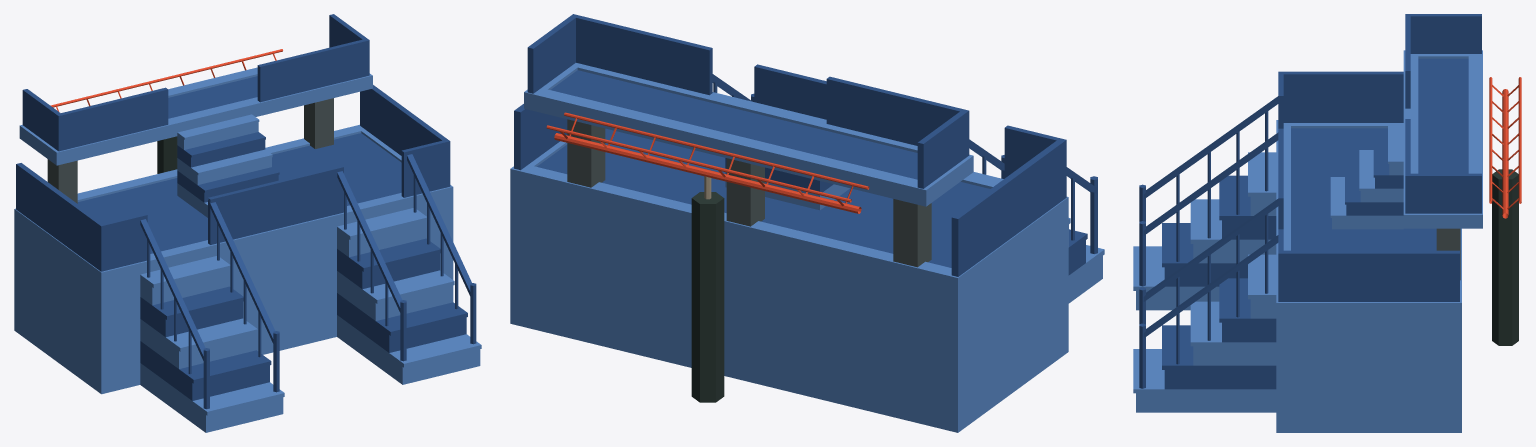
The model's file is RollerCoaster_Start.fbx.
3 views of the same model, side by side, from view 1: azimuth 30°, elevation 25°; view 2: azimuth 150°, elevation 25°; view 3: azimuth 270°, elevation 25° (orthographic). The views are drawn at different scales.
Parts seen in each view (by area): view 1: RollerCoaster_Start; view 2: RollerCoaster_Start; view 3: RollerCoaster_Start.
Part boxes in pixels (x1,y1,x2,y2): RollerCoaster_Start: [14, 14, 481, 432]; RollerCoaster_Start: [510, 14, 1104, 432]; RollerCoaster_Start: [1133, 14, 1521, 432].
Size of the model in its own units: 590 by 368 by 529.
